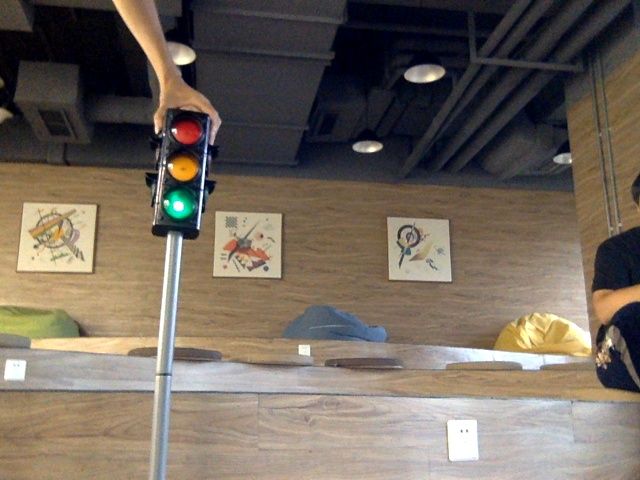green: (160, 121, 198, 222)
